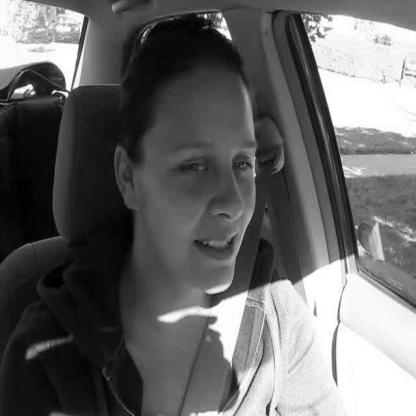seatbelt: (111, 0, 263, 416)
